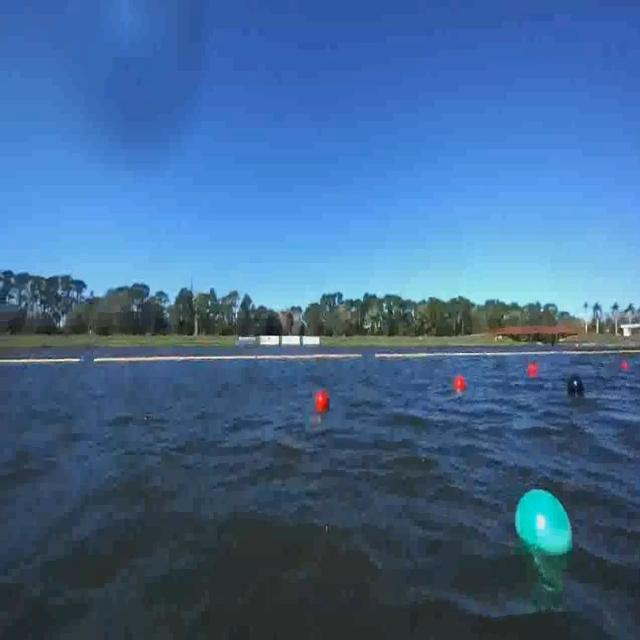black-buoy: (566, 373, 585, 398)
green-buoy: (514, 488, 572, 558)
red-buoy: (315, 391, 330, 414), (454, 376, 466, 394), (530, 362, 541, 378)
